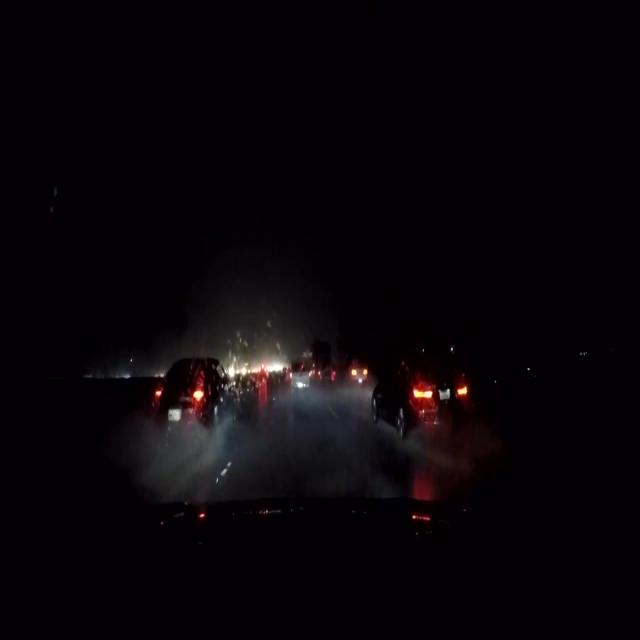Car: (368, 360, 465, 436), (153, 355, 228, 428), (287, 357, 312, 393)
